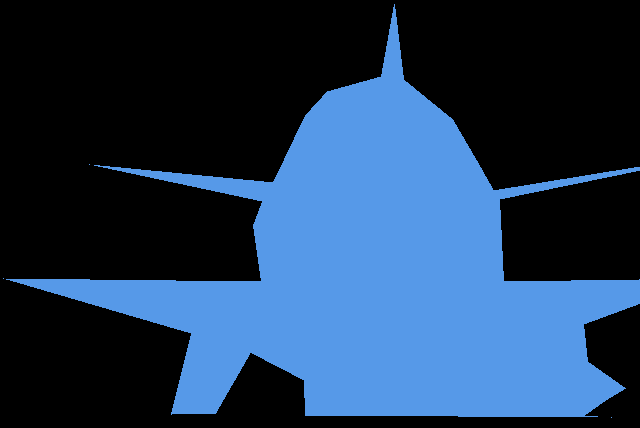Airplane: (3, 4, 640, 417)
